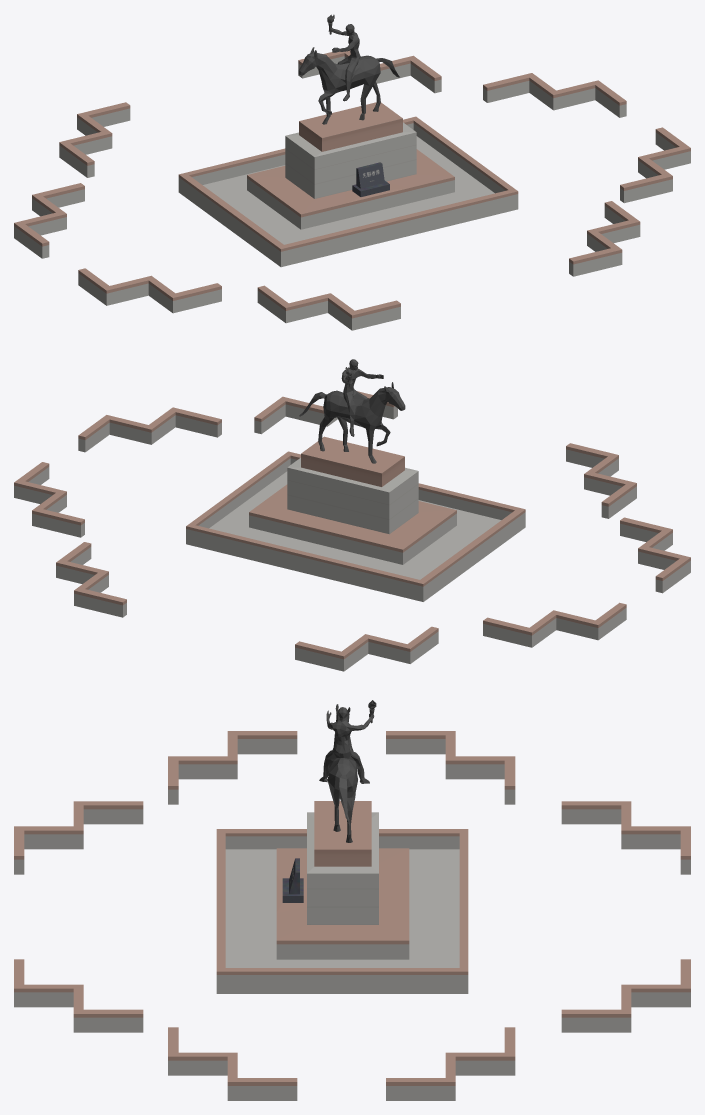
Rendered from building_stonestatue.gltf.
The picture shows the model from 3 angles, top to bottom: view 1: azimuth 30°, elevation 25°; view 2: azimuth 150°, elevation 25°; view 3: azimuth 270°, elevation 25°; orthographic projection. The views are drawn at different scales.
Parts seen in each view (by area): view 1: building_stonestatue; view 2: building_stonestatue; view 3: building_stonestatue.
Part boxes in pixels (box(x1,y1,x2,y2)): building_stonestatue: box(14, 14, 690, 330); building_stonestatue: box(14, 359, 690, 671); building_stonestatue: box(14, 700, 690, 1100).
Bounding box in the file's own units: 2 × 0.5859 × 1.63.
Materials: 1 (1 with a texture image).
